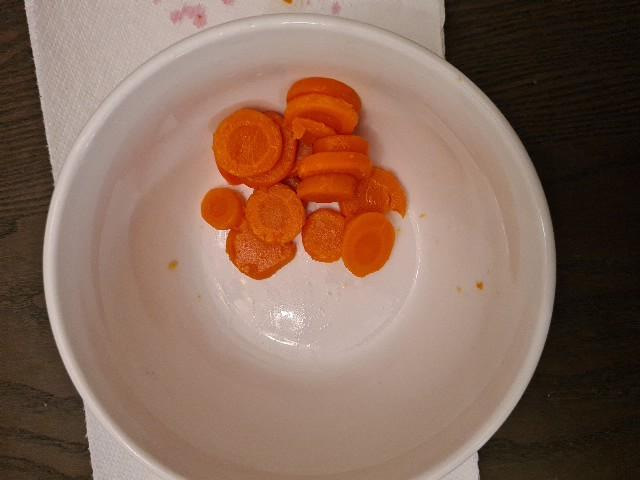kichen waste: (201, 77, 409, 280)
